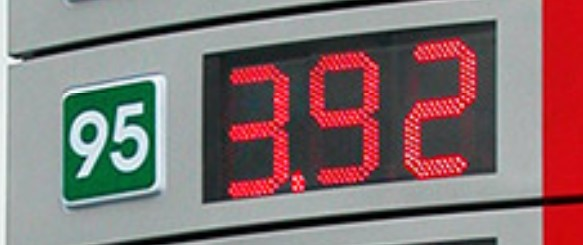digits: (203, 53, 293, 203), (400, 32, 487, 182), (302, 44, 388, 185)
